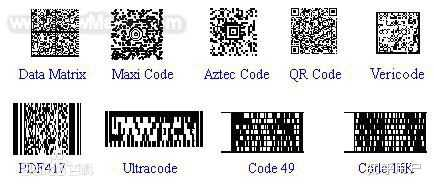QRCode: (287, 5, 343, 57)
